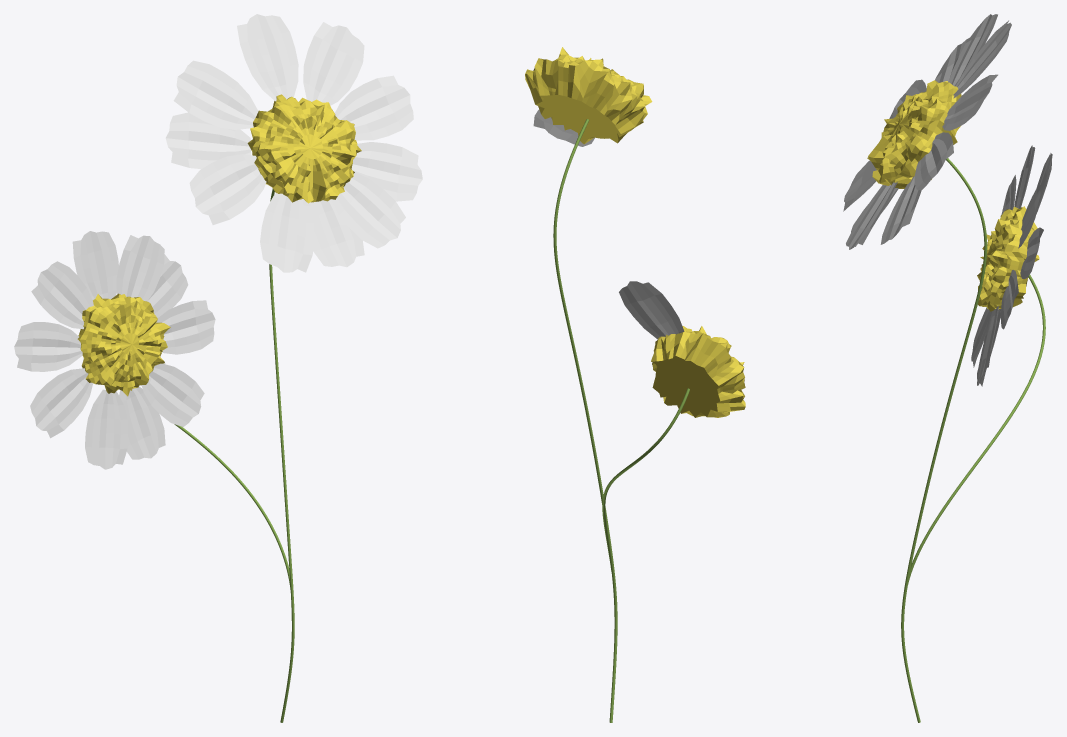
File: flower2.glb
The picture shows the model from 3 angles, left to right: view 1: azimuth 30°, elevation 25°; view 2: azimuth 150°, elevation 25°; view 3: azimuth 270°, elevation 25°; orthographic projection. The views are drawn at different scales.
Visible parts, largest first — view 1: NurbsPath.001; view 2: NurbsPath.001; view 3: NurbsPath.001.
Part boxes in pixels (x1,y1,x2,y2): NurbsPath.001: (14, 14, 422, 722); NurbsPath.001: (525, 47, 745, 722); NurbsPath.001: (843, 14, 1052, 722).
Size of the model in its own units: 0.4511 by 0.7992 by 0.2143.
